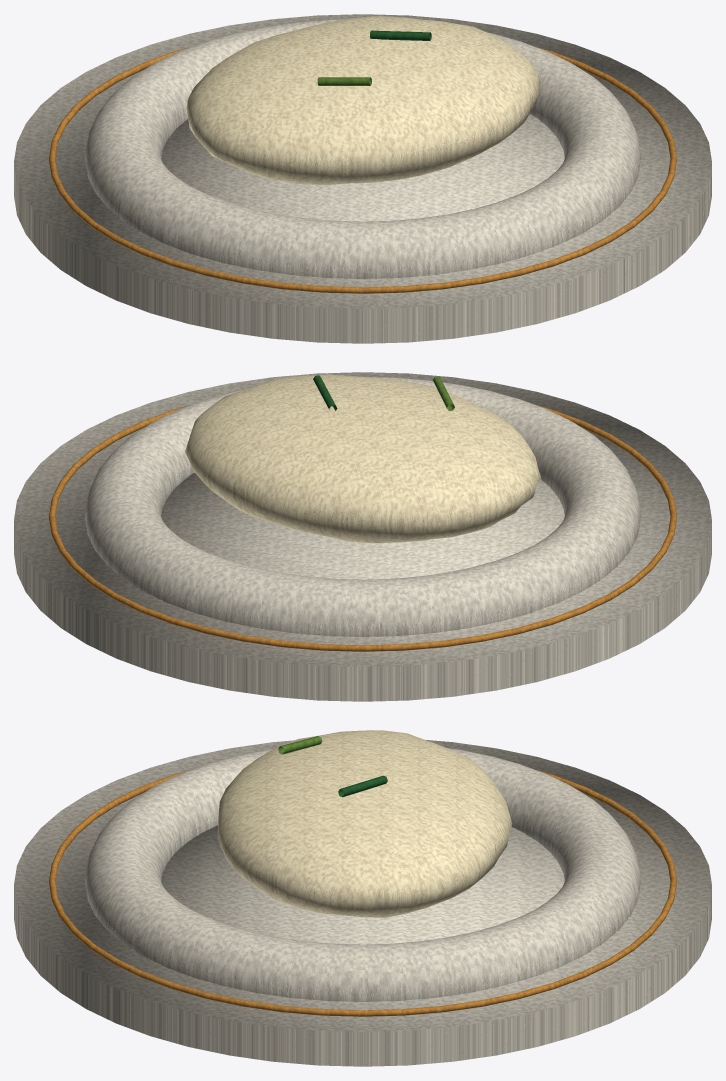
The model's file is risotto.glb.
3 views of the same model, one above another, from view 1: azimuth 30°, elevation 25°; view 2: azimuth 150°, elevation 25°; view 3: azimuth 270°, elevation 25° (orthographic).
Parts seen in each view (by area): view 1: porcelain, rice, gold, leaf; view 2: porcelain, rice, gold; view 3: porcelain, rice, gold.
Boxes of the visible parts, box(x1,y1,x2,y2) form: porcelain: box(14, 14, 711, 343); rice: box(186, 16, 540, 184); gold: box(49, 47, 676, 293); leaf: box(370, 30, 431, 40); porcelain: box(14, 372, 711, 701); rice: box(185, 374, 540, 543); gold: box(49, 405, 676, 651); porcelain: box(14, 740, 711, 1066); rice: box(217, 730, 512, 917); gold: box(49, 770, 676, 1016).
Size of the model in its own units: 0.64 by 0.159 by 0.64.
6 materials, 6 textured.
